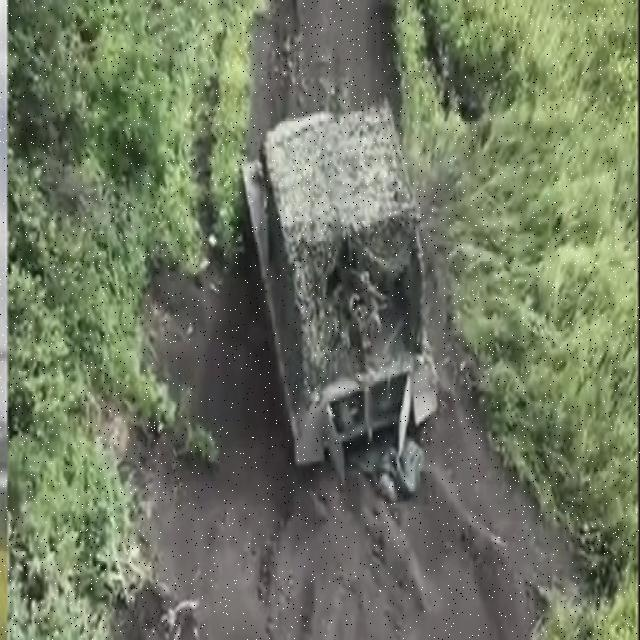APC-IFV: (228, 80, 450, 484)
